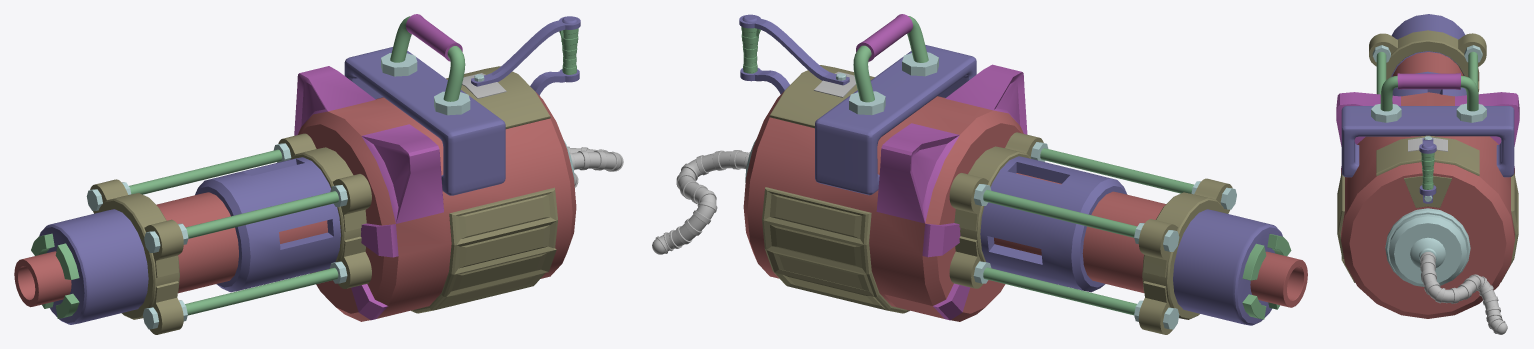
The model's file is Cool_Catlin.fbx.
3 renders of one model, left to right at view 1: azimuth 30°, elevation 25°; view 2: azimuth 150°, elevation 25°; view 3: azimuth 270°, elevation 25°, orthographic. The views are drawn at different scales.
Visible parts, largest first — view 1: polySurface19 (×3), polySurface2, polySurface14, pPlane27, polySurface11, pCylinder3_polySurface4_polySurface8, pCylinder2, polySurface3, polySurface12, pCylinder4, pCylinder45, pCylinder42 (+11 smaller); view 2: polySurface19 (×3), polySurface2, polySurface14, pPlane27, polySurface11, pCylinder3_polySurface4_polySurface8, pCylinder2, pCylinder33, polySurface12, polySurface3, pCylinder40, pCylinder42 (+11 smaller); view 3: polySurface19 (×4), pPlane27, pCylinder33, polySurface3, polySurface11, pCylinder2, polySurface16, polySurface14, pCylinder3_polySurface4_polySurface8, polySurface15, polySurface20, polySurface2 (+10 smaller).
Boxes of the visible parts, x1,y1,x2,y2 form: polySurface19 (×3): (294, 66, 576, 321); polySurface2: (195, 157, 340, 292); polySurface14: (411, 187, 557, 313); pPlane27: (344, 47, 505, 195); polySurface11: (39, 209, 148, 324); pCylinder3_polySurface4_polySurface8: (90, 133, 371, 334); pCylinder2: (156, 192, 327, 293); polySurface3: (97, 193, 179, 319); polySurface12: (14, 251, 71, 307); pCylinder4: (185, 191, 338, 238); pCylinder45: (185, 267, 338, 315); pCylinder42: (129, 149, 282, 194); polySurface19 (×3): (743, 64, 1027, 321); polySurface2: (980, 156, 1127, 292); polySurface14: (762, 187, 909, 313); pPlane27: (815, 45, 976, 195); polySurface11: (1173, 209, 1282, 325); pCylinder3_polySurface4_polySurface8: (949, 132, 1232, 334); pCylinder2: (994, 173, 1165, 292); pCylinder33: (652, 150, 750, 254); polySurface12: (1250, 251, 1307, 307); polySurface3: (1142, 192, 1225, 319); pCylinder40: (983, 267, 1136, 315); pCylinder42: (983, 190, 1137, 237); polySurface19 (×4): (1336, 92, 1519, 318); pPlane27: (1341, 106, 1514, 177); pCylinder33: (1420, 252, 1507, 334); polySurface3: (1386, 30, 1468, 79); polySurface11: (1391, 14, 1465, 76); pCylinder2: (1392, 52, 1463, 94); polySurface16: (1397, 73, 1460, 89); polySurface14: (1337, 173, 1518, 282); pCylinder3_polySurface4_polySurface8: (1369, 33, 1486, 92); polySurface15: (1380, 75, 1478, 111); polySurface20: (1404, 176, 1451, 207); polySurface2: (1392, 71, 1466, 96).
Bounding box in the file's own units: 330 × 140 × 107.
